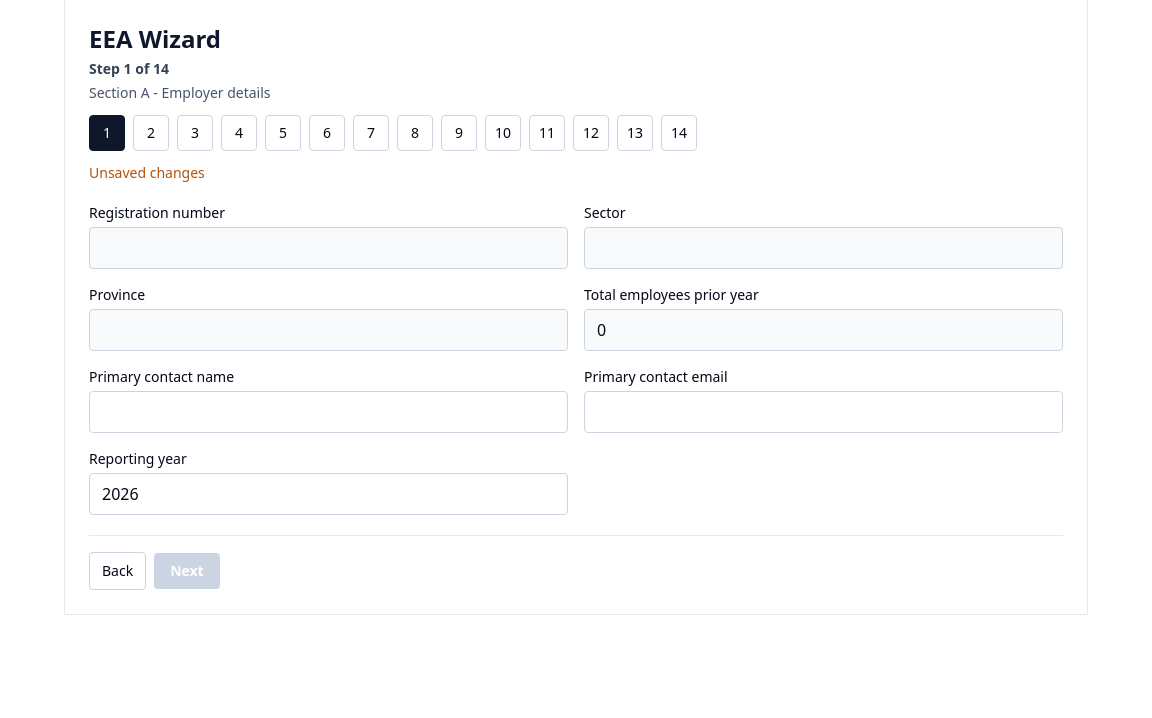
Test case: EEA hooks and wizard › Section C1 hard-blocks advance when workforce total mismatches Section B total
This screenshot has width=1152, height=718.
Type "Rivaan" into the field labelled "Primary contact name".
click(328, 412); type("Rivaan")  # box [89, 391, 568, 433]
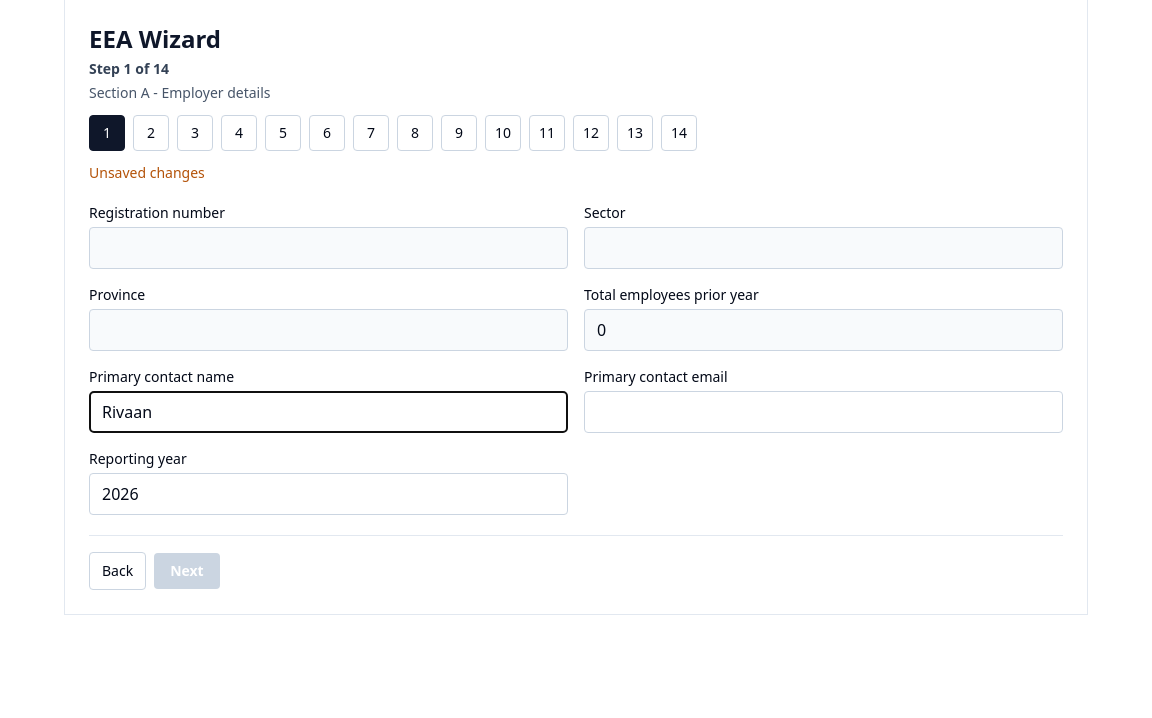
Type "rivaan@simplifi.co.za" into the field labelled "Primary contact email".
click(824, 412); type("rivaan@simplifi.co.za")  # box [584, 391, 1063, 433]
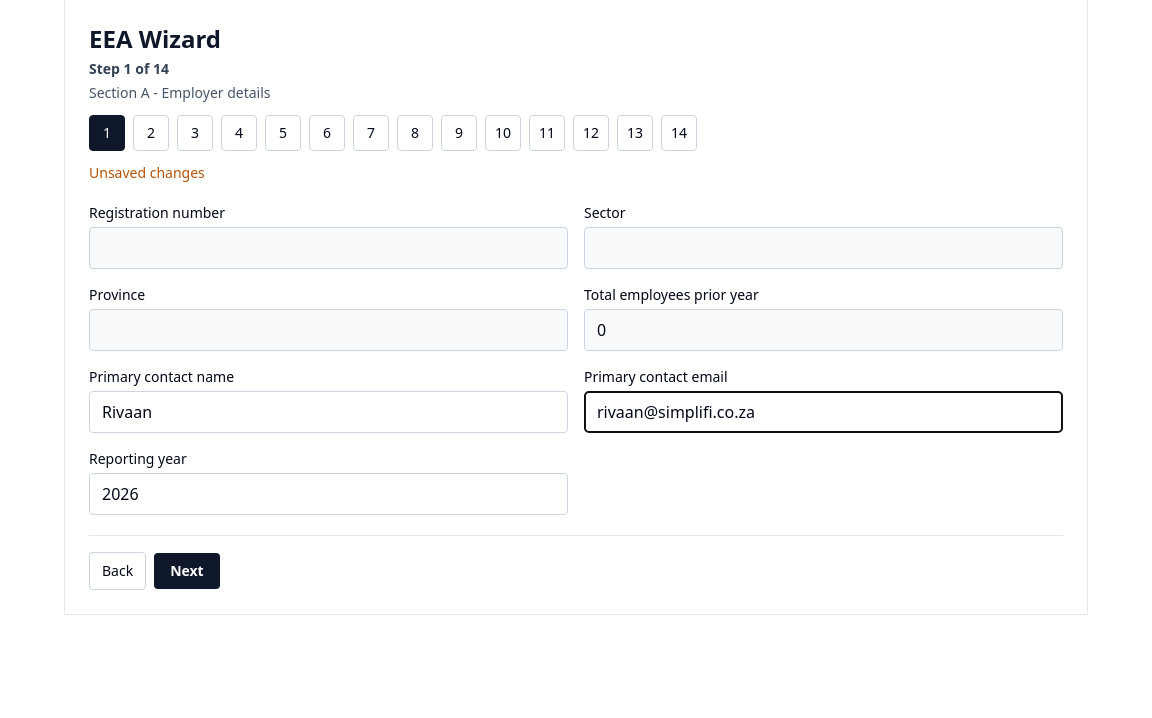
Click the button "Next".
click(187, 571)  # box [154, 553, 220, 589]
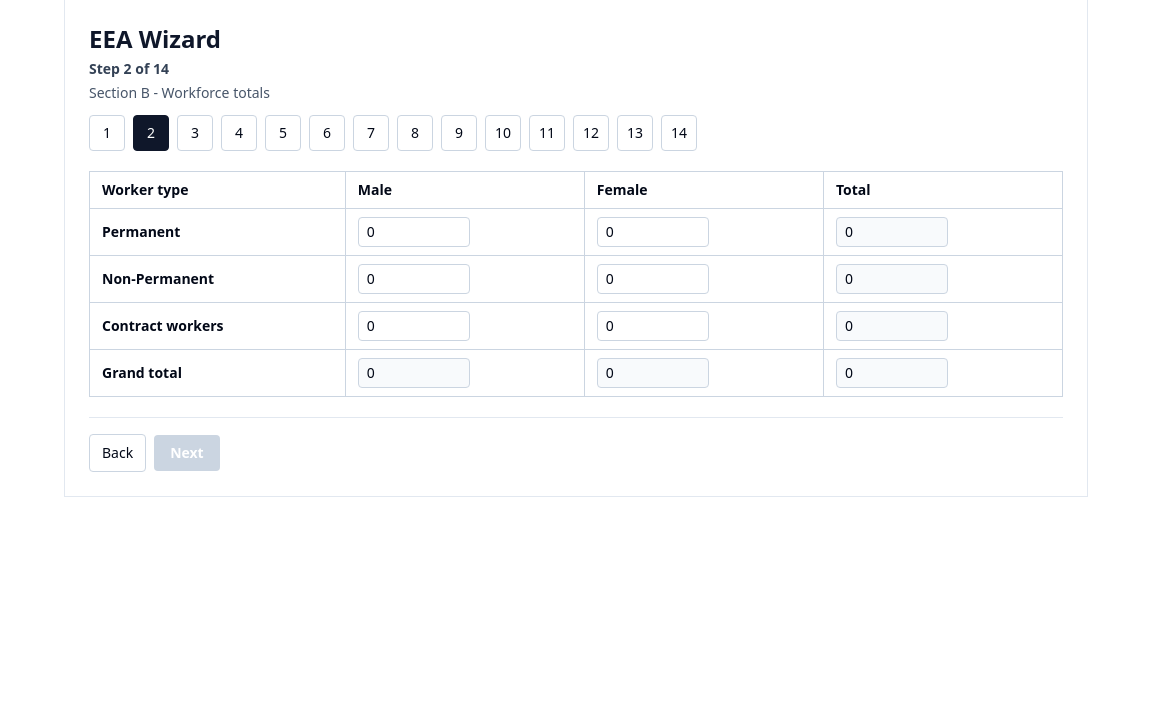
Clear the number field named "Permanent male" at {"x": 414, "y": 232}, box [358, 217, 470, 247]
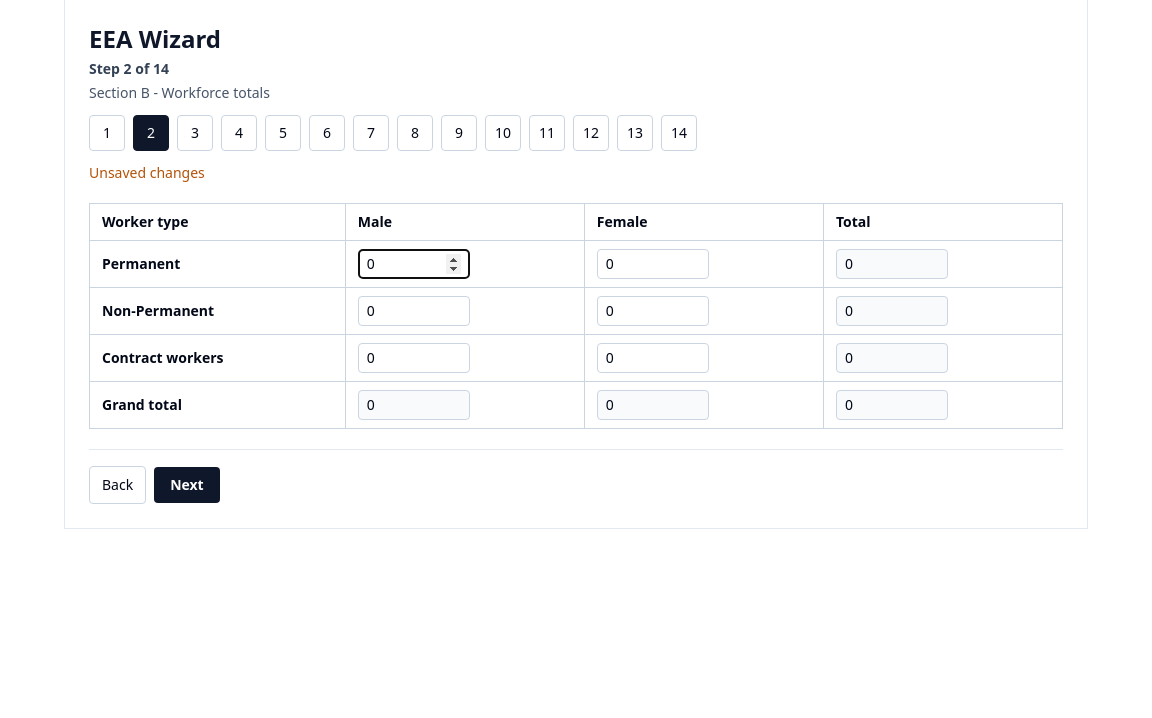
Type "12" into the number field named "Permanent male".
click(414, 264); type("12")  # box [358, 249, 470, 279]
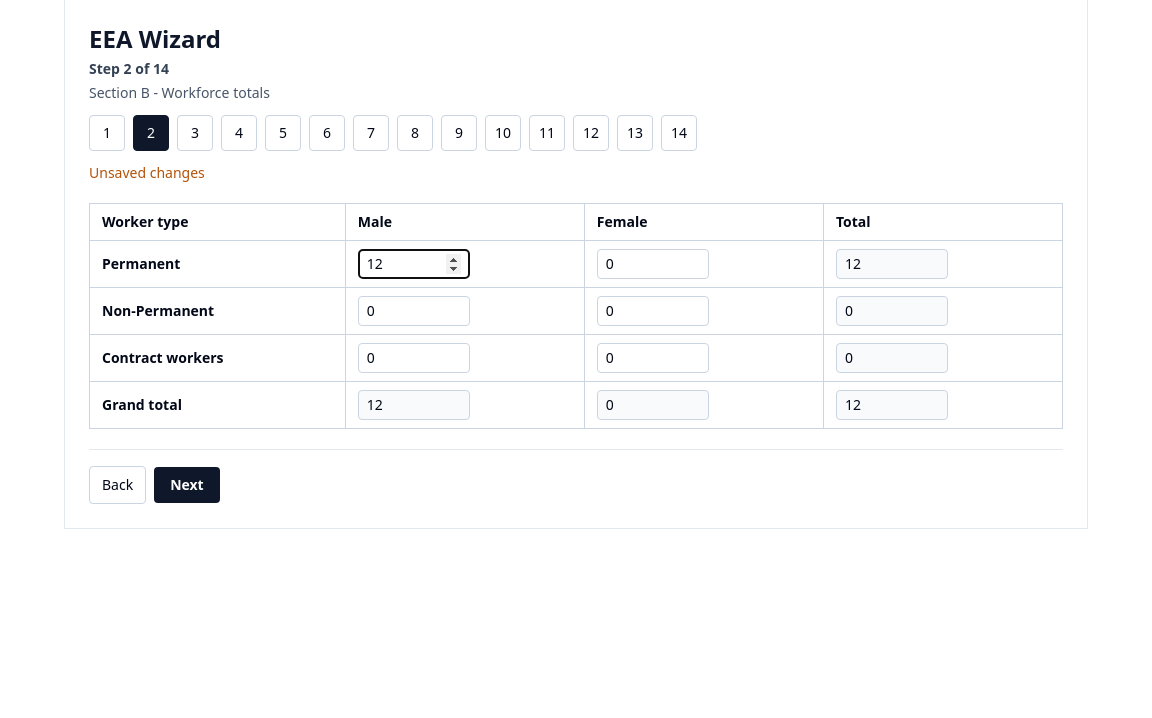
Click the button "Next".
click(187, 485)  # box [154, 467, 220, 503]
(page scrolled)
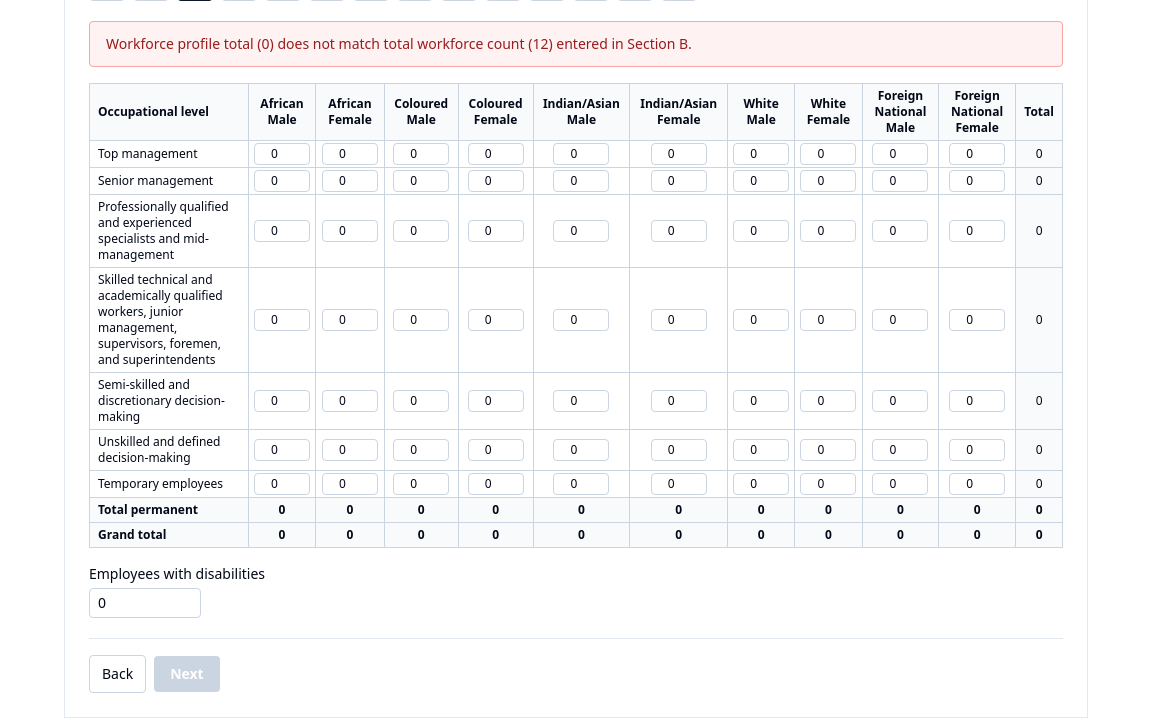
Expected: the text "Workforce profile total (0) does not match total workforce count (12) entered in Section B." is shown, [89, 21, 1063, 67]
Expected: the button "Next" is disabled, [154, 656, 220, 692]
